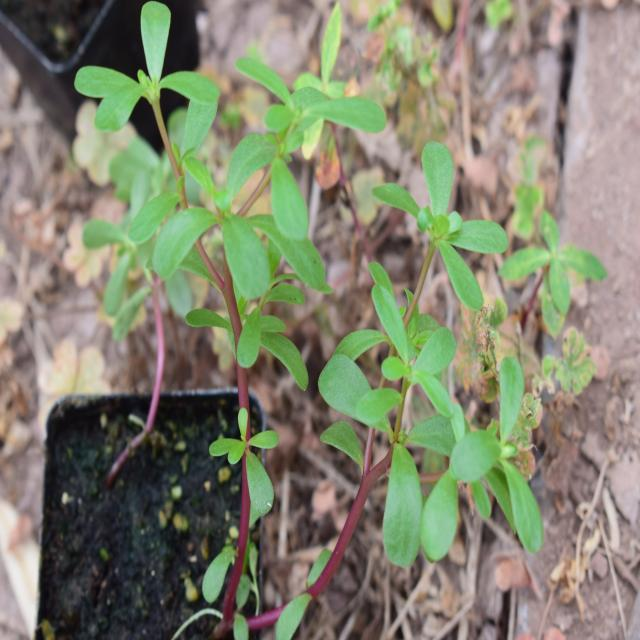purslane: (79, 6, 547, 586)
